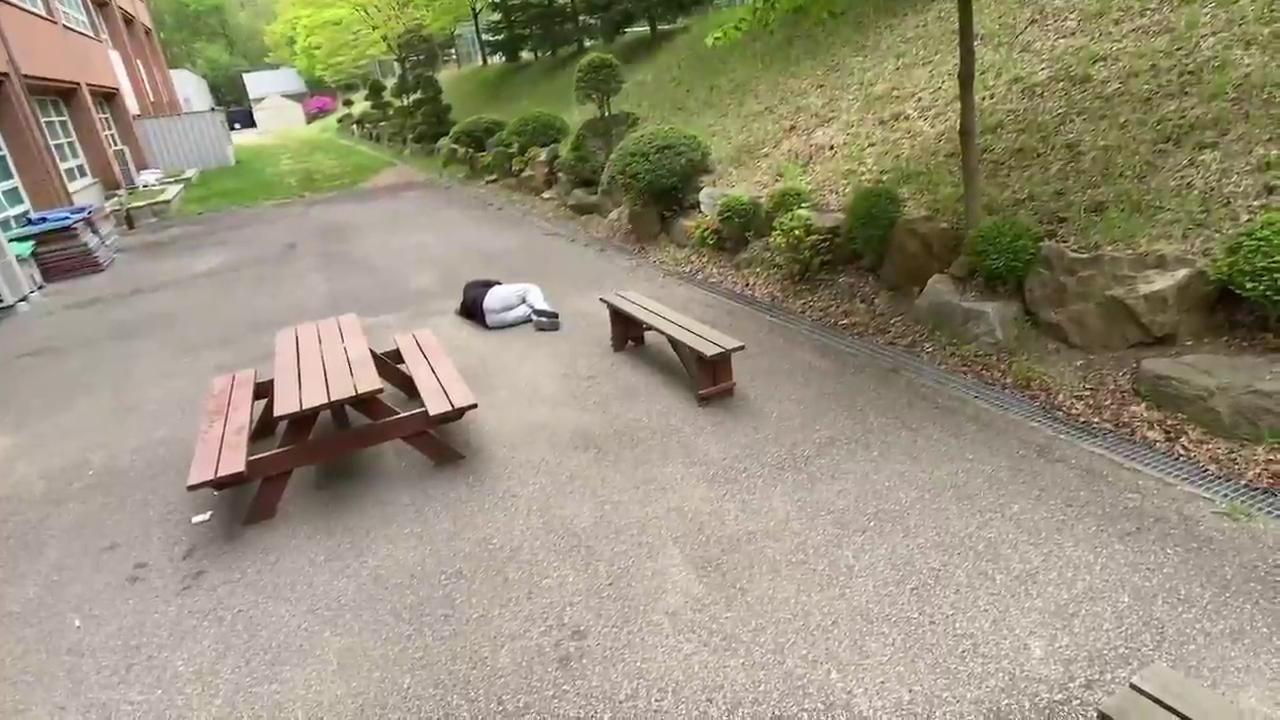faint: (455, 279, 564, 334)
